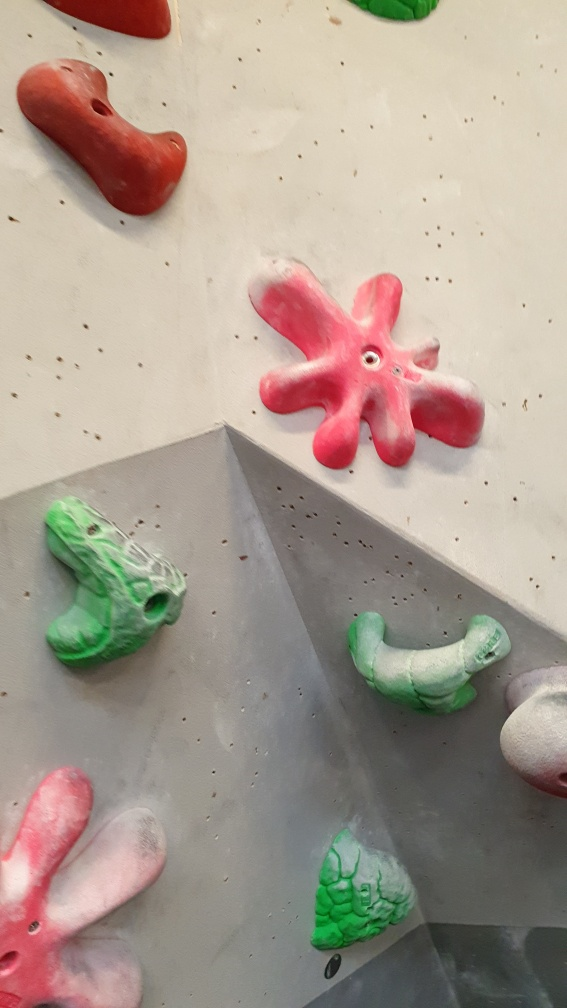Hand Start: (317, 950, 347, 984)
Jug: (340, 605, 513, 720), (309, 830, 421, 946)
Octopus Pinch: (237, 250, 492, 481), (1, 756, 173, 1007)
Sloper: (496, 682, 567, 805)
